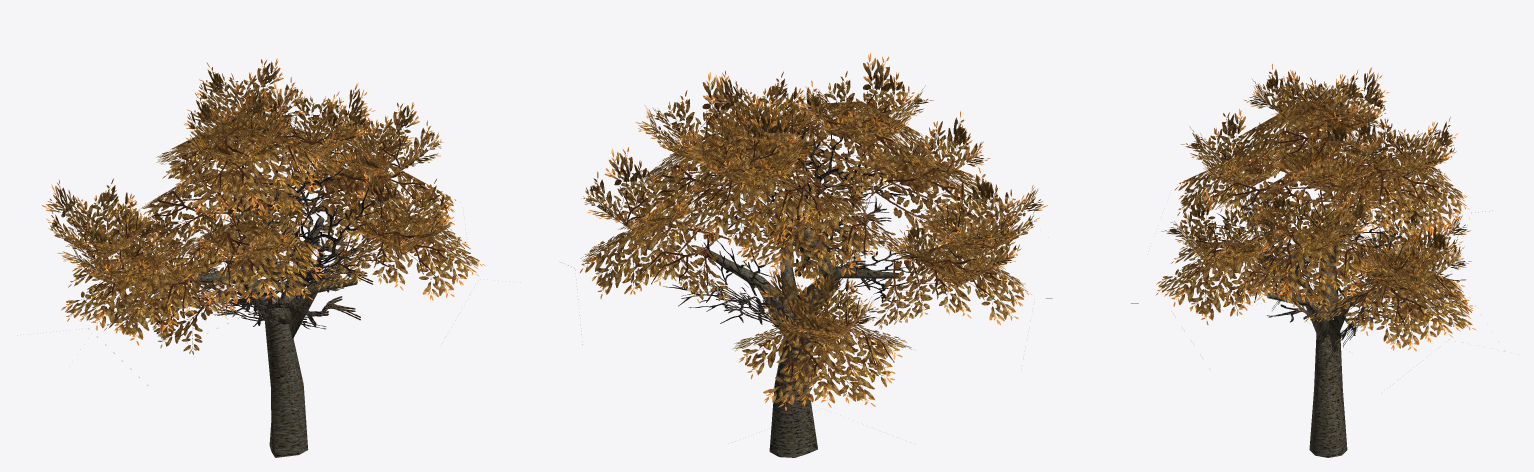
Rendered from flora_tree_oak_holly_autumn_v2.glb.
3 views of the same model, side by side, from view 1: azimuth 30°, elevation 25°; view 2: azimuth 150°, elevation 25°; view 3: azimuth 270°, elevation 25° (orthographic). The views are drawn at different scales.
Parts seen in each view (by area): view 1: flora_tree_oak_holly_autumn_v2_part0, flora_tree_oak_holly_autumn_v2_part1; view 2: flora_tree_oak_holly_autumn_v2_part0, flora_tree_oak_holly_autumn_v2_part1; view 3: flora_tree_oak_holly_autumn_v2_part0, flora_tree_oak_holly_autumn_v2_part1.
Part boxes in pixels (x1,y1,x2,y2): flora_tree_oak_holly_autumn_v2_part0: (42,58,485,457); flora_tree_oak_holly_autumn_v2_part1: (186,152,397,329); flora_tree_oak_holly_autumn_v2_part0: (568,53,1052,457); flora_tree_oak_holly_autumn_v2_part1: (663,110,928,359); flora_tree_oak_holly_autumn_v2_part0: (1131,64,1492,457); flora_tree_oak_holly_autumn_v2_part1: (1184,173,1465,371).
Bounding box in the file's own units: 26.02 × 21.97 × 21.33.
Materials: 2 (2 with a texture image).
